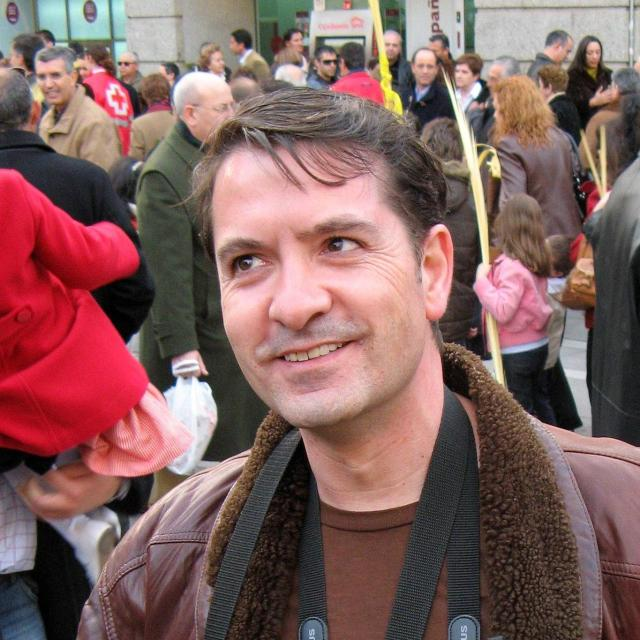no-glass: (228, 235, 368, 286)
